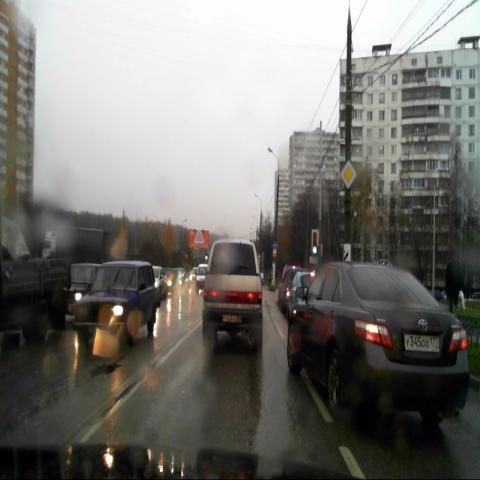2_1: (340, 159, 357, 189)
